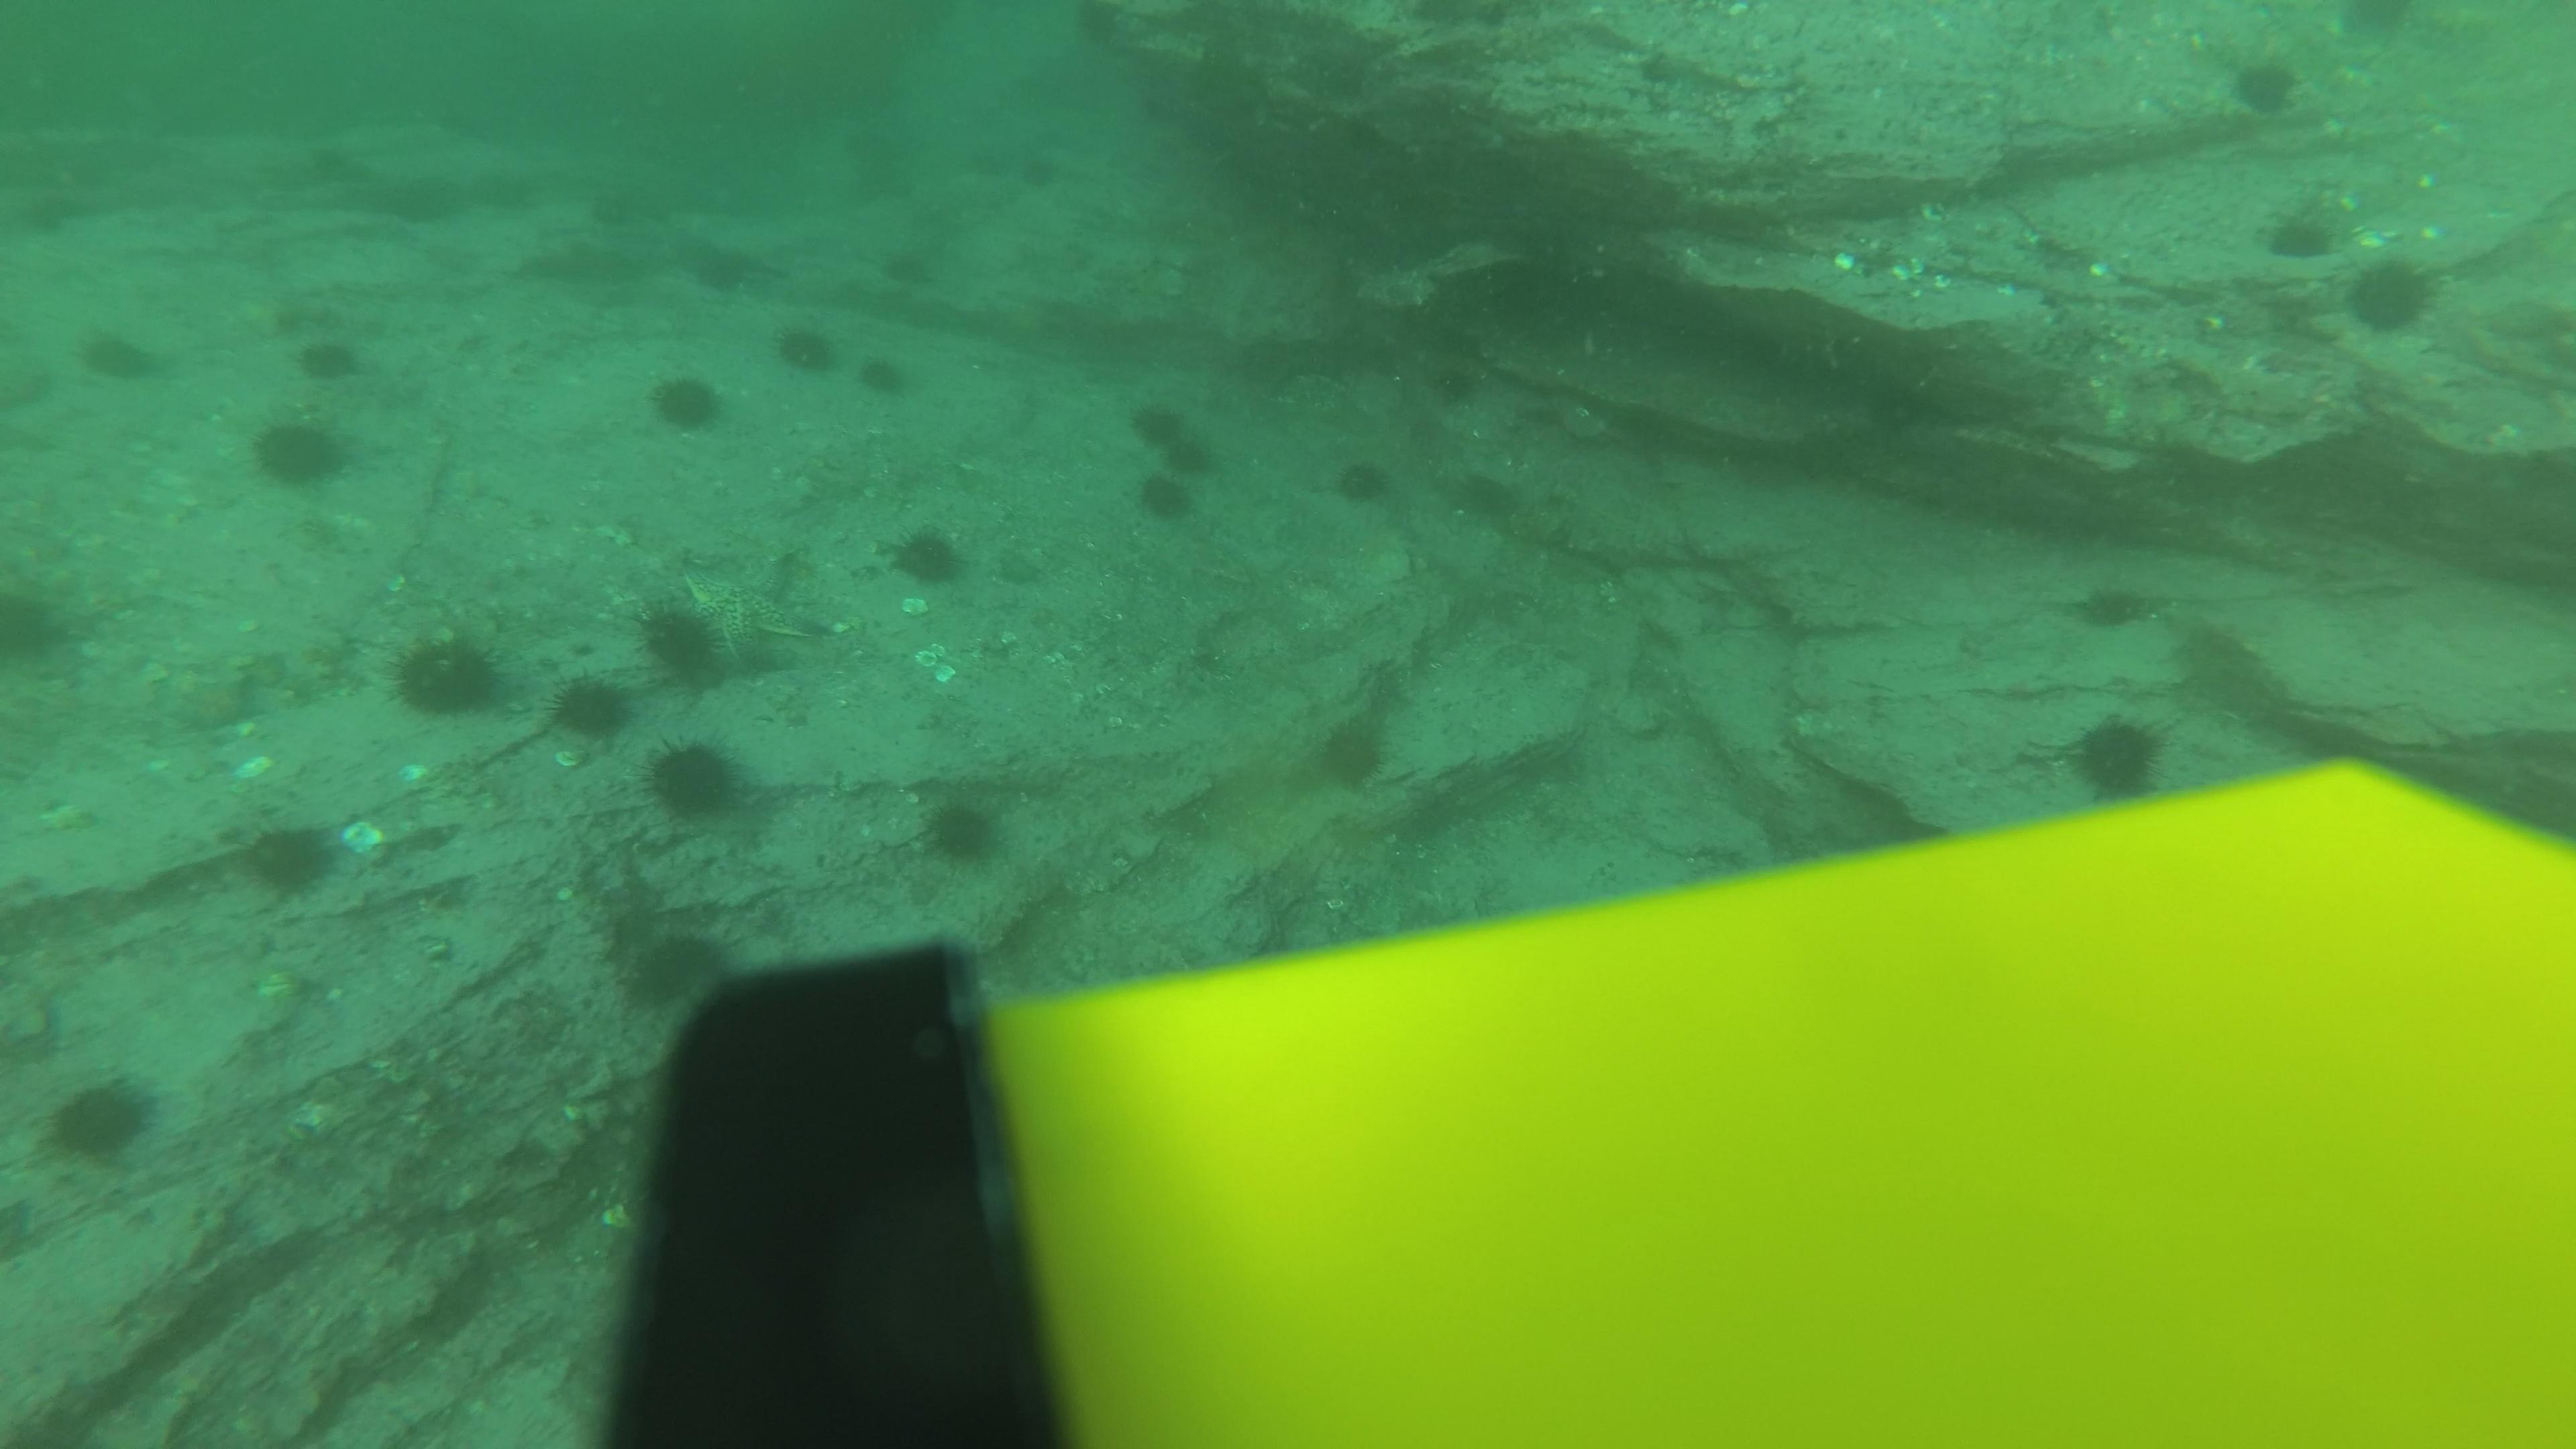echinus: (386, 625, 510, 725), (35, 1069, 159, 1169), (2059, 708, 2174, 805), (639, 732, 754, 828), (632, 591, 741, 690), (617, 924, 732, 1016), (234, 814, 347, 904), (2341, 251, 2443, 340), (248, 410, 354, 494), (0, 571, 81, 678), (913, 786, 1012, 872), (1304, 711, 1396, 796), (545, 669, 635, 747), (881, 517, 971, 593), (73, 318, 165, 389), (644, 364, 729, 437), (2224, 50, 2307, 122), (2066, 573, 2160, 635), (2258, 200, 2342, 265), (292, 327, 368, 389), (770, 317, 840, 380), (1329, 449, 1399, 511), (1421, 357, 1488, 416), (1131, 467, 1196, 525), (1166, 428, 1231, 487), (855, 347, 915, 403), (878, 242, 938, 299), (697, 242, 757, 299), (582, 182, 642, 239), (1123, 402, 1180, 449)
starfish: (667, 534, 828, 678)
